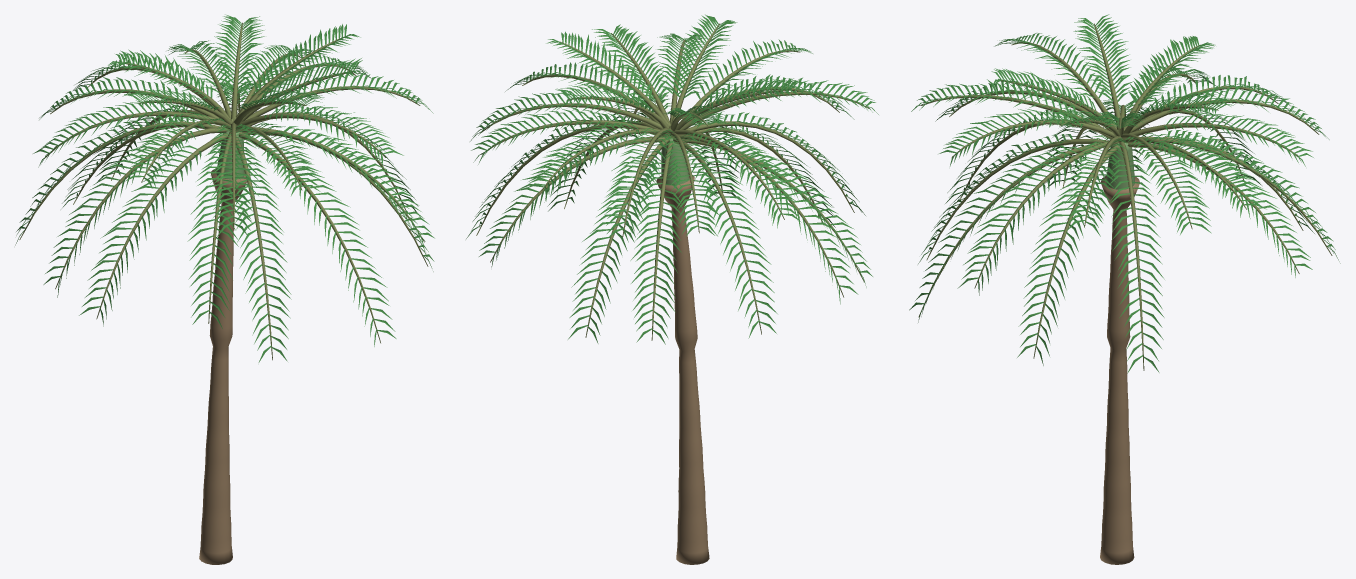
The model's file is palm_royal.glb.
The picture shows the model from 3 angles, left to right: view 1: azimuth 30°, elevation 25°; view 2: azimuth 150°, elevation 25°; view 3: azimuth 270°, elevation 25°; orthographic projection.
Visible parts, largest first — view 1: palm_royal_leaf, palm_royal_rachis, palm_royal_trunk; view 2: palm_royal_leaf, palm_royal_rachis, palm_royal_trunk, palm_royal_crown; view 3: palm_royal_leaf, palm_royal_rachis, palm_royal_trunk, palm_royal_crown.
Part boxes in pixels (x1,y1,x2,y2): palm_royal_leaf: [15, 14, 434, 362]; palm_royal_rachis: [19, 22, 428, 360]; palm_royal_trunk: [199, 168, 246, 564]; palm_royal_leaf: [466, 14, 878, 344]; palm_royal_rachis: [476, 23, 869, 340]; palm_royal_trunk: [656, 174, 709, 564]; palm_royal_crown: [661, 133, 689, 184]; palm_royal_leaf: [909, 14, 1340, 373]; palm_royal_rachis: [918, 23, 1332, 370]; palm_royal_trunk: [1100, 176, 1139, 564]; palm_royal_crown: [1106, 143, 1134, 189].
Bounding box in the file's own units: 8.07 × 10.18 × 8.
